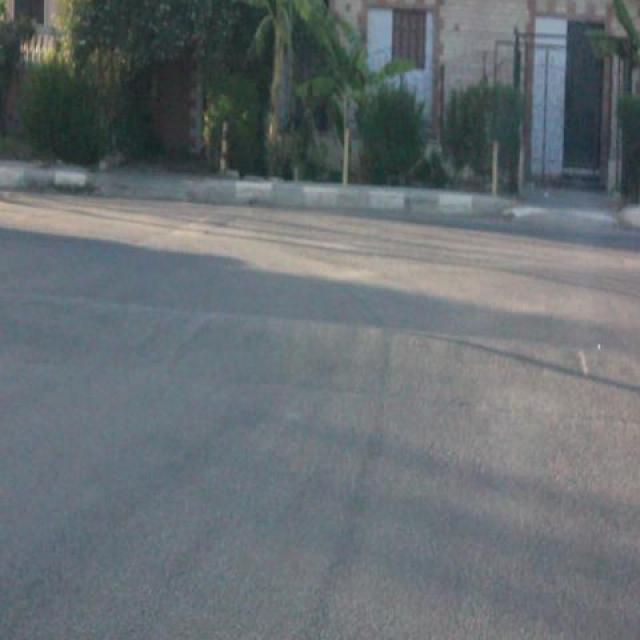Unmarked Bump: (0, 294, 640, 424)
